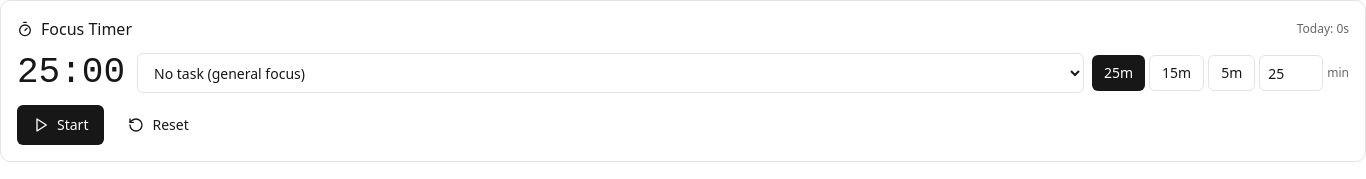
Test case: PomodoroTimer › pauses and resumes a running session
The width and height of the screenshot is (1366, 179).
Click the button "Start": (61, 125) x1=17 y1=105 x2=104 y2=145
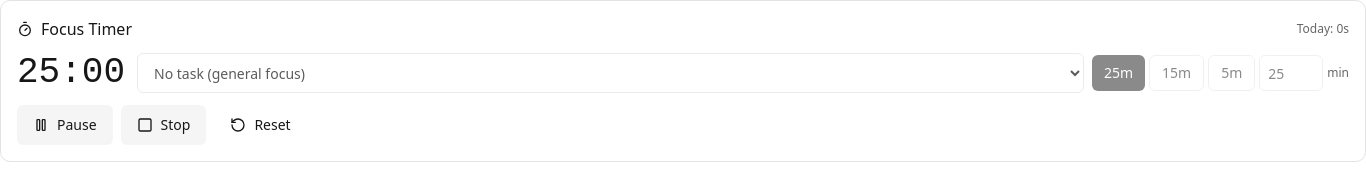
Click the button "Pause": (65, 125) x1=17 y1=105 x2=113 y2=145
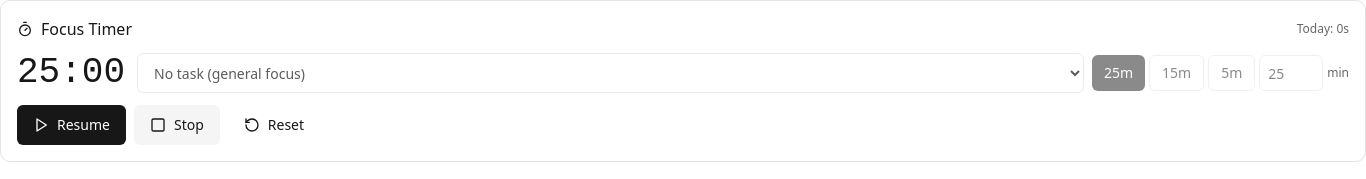
Result: the button "Resume" is shown at x1=17 y1=105 x2=126 y2=145
